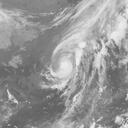cyclone: (48, 42, 82, 84)
